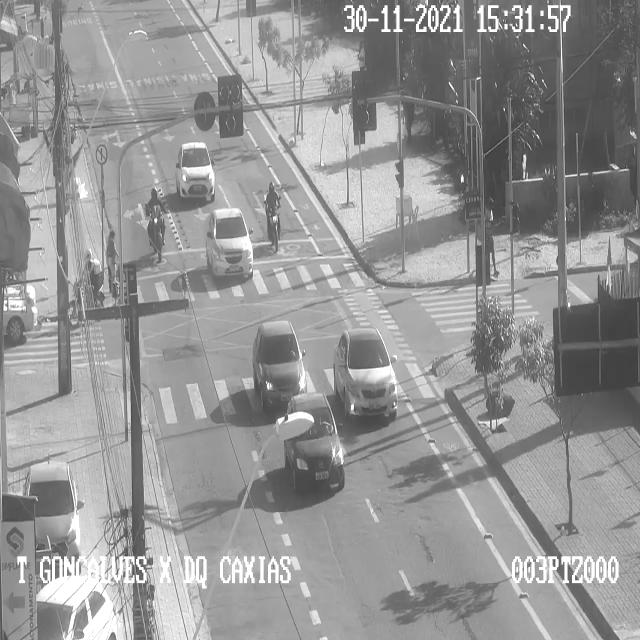Car: (283, 391, 347, 498), (334, 327, 398, 425), (25, 461, 83, 559), (34, 576, 118, 639), (253, 322, 305, 417), (206, 206, 254, 278), (176, 140, 216, 200)
Motorcycle: (67, 251, 113, 327), (144, 191, 168, 261), (264, 181, 282, 250)
